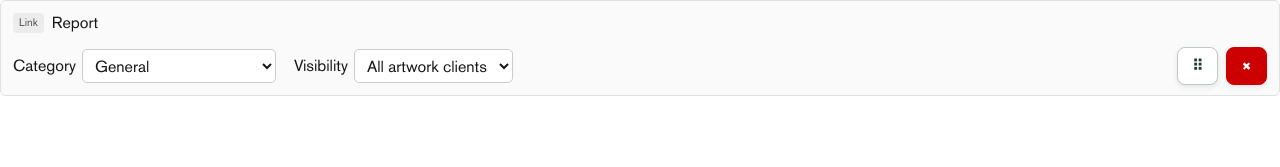
Test: editing existing document visibility › surfaces server error without reporting success
The image size is (1280, 167).
Select "Internal only" in the dropdown named "Report visibility" at (433, 66), box [354, 49, 513, 83]
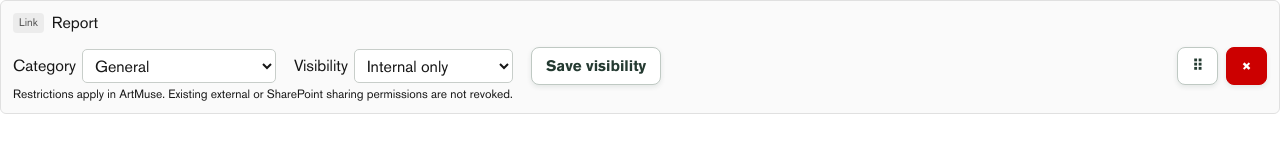
Click the button "Save visibility" at (596, 66), box [531, 47, 661, 85]
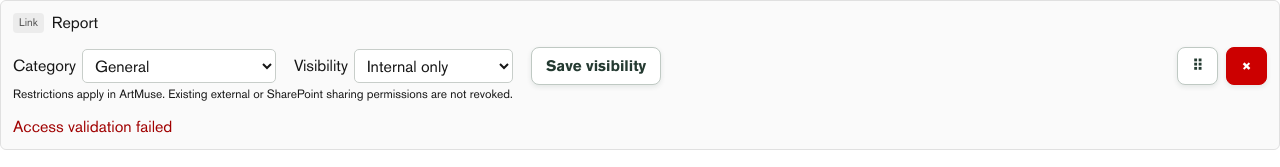
Check: the message "Access validation failed" is shown, box [13, 117, 172, 136]
